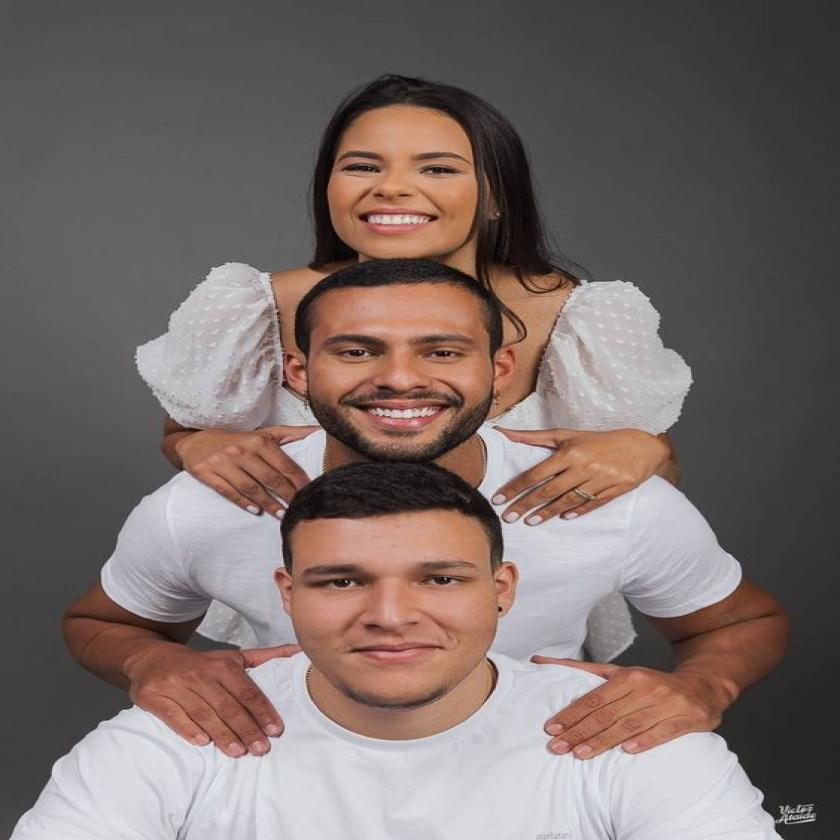Sin_casco: (272, 455, 516, 708), (287, 253, 514, 474), (307, 70, 525, 281)
